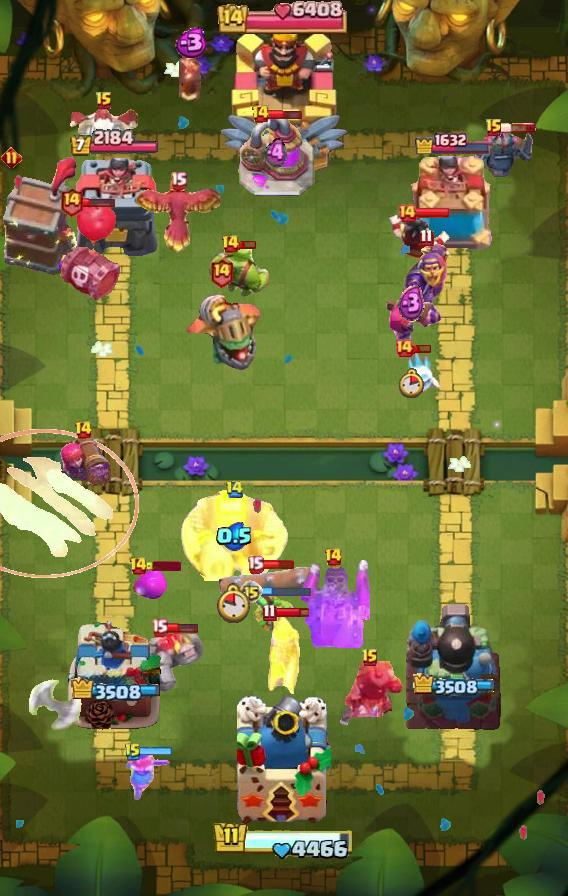bat: (397, 353, 441, 399)
battle-ram: (474, 130, 536, 178)
bomb-tower: (264, 609, 302, 707)
bomber: (177, 55, 203, 105)
clock: (212, 820, 356, 862), (217, 0, 351, 34)
dart-goblin: (0, 157, 78, 277)
electro-spirit: (171, 27, 209, 57), (216, 521, 253, 550), (398, 286, 425, 323), (265, 138, 287, 170)
elixir: (217, 583, 251, 623), (398, 368, 424, 398)
emote: (261, 586, 313, 598), (268, 107, 304, 120), (275, 606, 310, 619), (500, 122, 536, 134), (415, 207, 451, 219), (80, 196, 115, 208), (166, 622, 199, 634), (261, 558, 295, 569), (140, 747, 174, 758), (145, 561, 181, 571), (237, 238, 257, 249), (412, 343, 432, 354)
firecracker-evolution: (401, 244, 451, 309)
flying-machine: (208, 241, 272, 299)
giant-skeleton: (179, 487, 289, 581)
giant-snowball: (246, 589, 294, 633)
golden-knight: (132, 180, 224, 254)
hog-rider: (124, 748, 172, 802)
ice-wizard: (0, 429, 139, 579)
inferno-dragon: (337, 661, 403, 733)
king-tower: (219, 23, 349, 181), (237, 696, 331, 826)
lumberjack: (385, 212, 451, 270)
mega-minion: (377, 294, 445, 350), (55, 434, 111, 496)
miner: (132, 571, 168, 601)
mini-pekka: (67, 105, 141, 153)
minion: (219, 567, 317, 603)
night-witch: (180, 293, 262, 371)
pekka: (237, 116, 315, 198)
queen-tower: (65, 617, 163, 731), (407, 156, 499, 256), (68, 158, 159, 256)
royal-giant: (27, 669, 83, 731)
royal-recruit-evolution: (57, 200, 123, 304)
selected: (68, 129, 159, 158), (68, 677, 159, 703), (411, 673, 495, 697), (414, 130, 492, 154)
skeleton-king-bar: (296, 560, 370, 648)
text: (60, 186, 85, 217), (209, 256, 234, 287), (239, 580, 263, 604), (2, 147, 23, 168), (397, 203, 417, 223), (394, 338, 414, 358), (250, 104, 269, 124), (221, 234, 240, 254), (74, 420, 93, 440), (324, 547, 343, 567), (129, 556, 148, 576), (95, 91, 113, 111), (485, 118, 503, 138), (361, 648, 379, 668), (124, 742, 142, 762), (225, 481, 244, 499), (151, 619, 169, 637), (247, 554, 264, 573), (169, 171, 186, 189), (263, 603, 277, 622), (419, 229, 433, 247)
tower-bar: (403, 601, 503, 731)
valkyrie-evolution: (140, 633, 204, 693)
